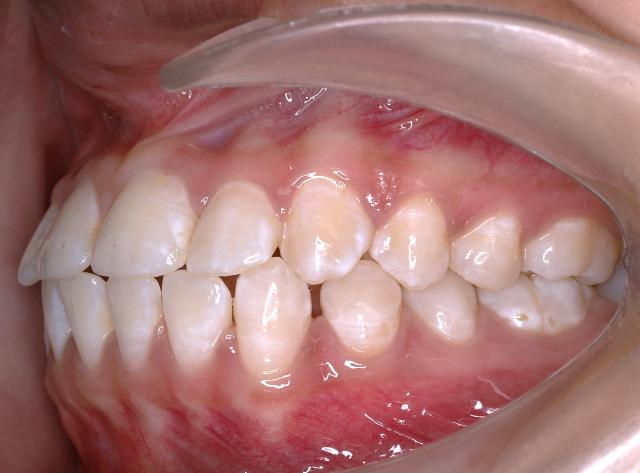canine class I: (230, 172, 408, 389)
molar class III 1/4: (476, 211, 620, 347)
